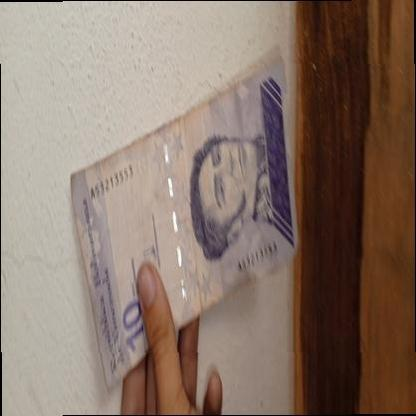ten-front-vef: (69, 61, 296, 390)
